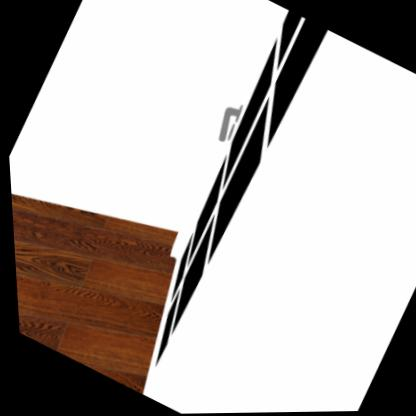Wooden floor: (9, 195, 173, 395)
